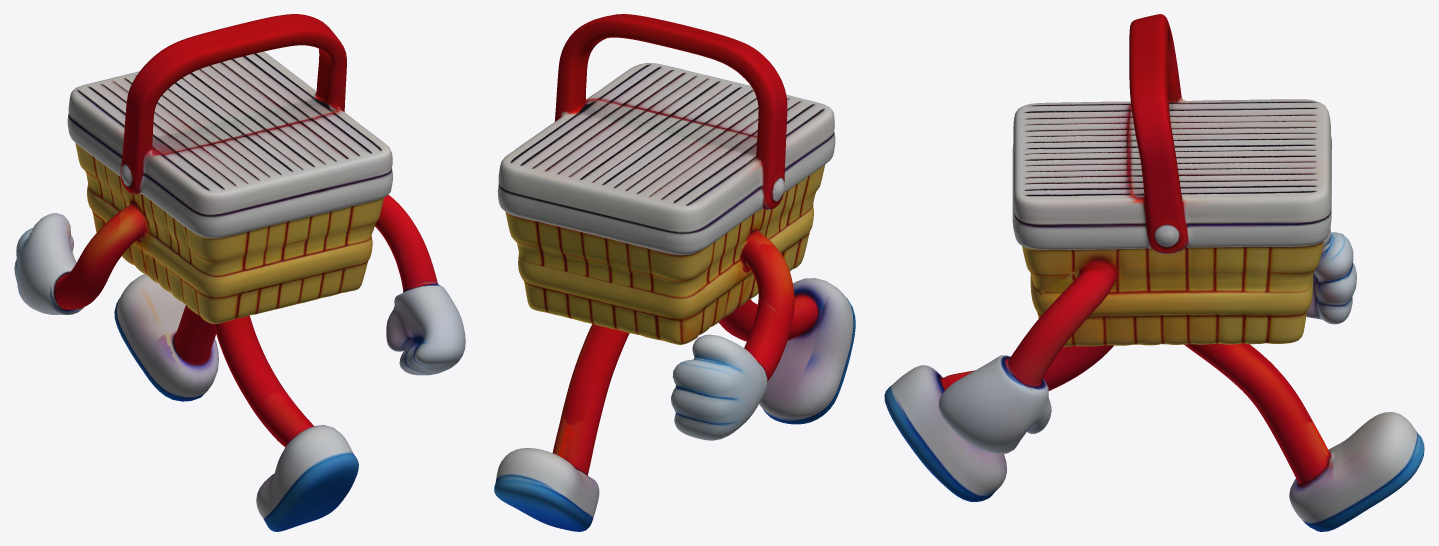
Rendered from picnic_01.glb.
3 renders of one model, left to right at view 1: azimuth 30°, elevation 25°; view 2: azimuth 150°, elevation 25°; view 3: azimuth 270°, elevation 25°, orthographic. The views are drawn at different scales.
Visible parts, largest first — view 1: tripo_node_2b612230-ed50-41bf-beaa-4673df44dda8; view 2: tripo_node_2b612230-ed50-41bf-beaa-4673df44dda8; view 3: tripo_node_2b612230-ed50-41bf-beaa-4673df44dda8.
Boxes of the visible parts, left/top/right/bottom form: tripo_node_2b612230-ed50-41bf-beaa-4673df44dda8: left=14, top=14, right=465, bottom=531; tripo_node_2b612230-ed50-41bf-beaa-4673df44dda8: left=494, top=14, right=855, bottom=531; tripo_node_2b612230-ed50-41bf-beaa-4673df44dda8: left=884, top=14, right=1424, bottom=531.
Bounding box in the file's own units: 0.6403 × 0.9088 × 0.9488.
Materials: 1 (1 with a texture image).
